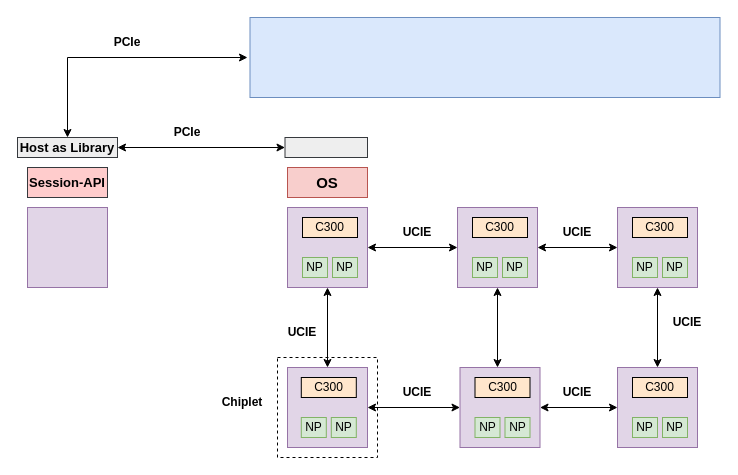
The diagram is 738 pixels wide and 475 high, and some of its shapes have lost their labels. Here are the shapes that lost their labels. From the top down, the centre of each, then its label:
(x=484, y=57): External Memory(Unified)
(x=326, y=147): R1
(x=67, y=247): HOST
